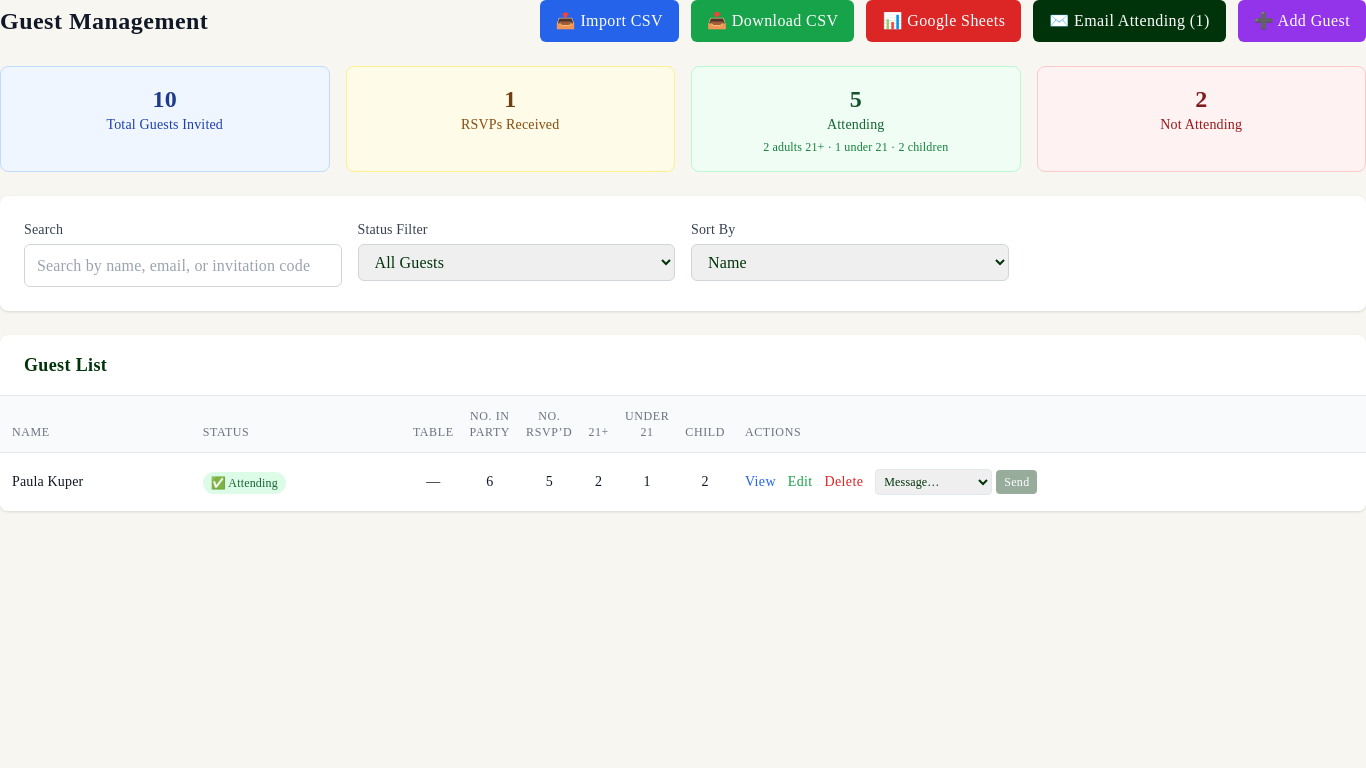
Test: the Edit Guest popup › keeps Number RSVP'd equal to the sum as she types
Expected: the text "Paula Kuper" is shown, [12,474,83,489]
Step 1. Click the button "Edit" → (800, 482), box [788,472,813,492]
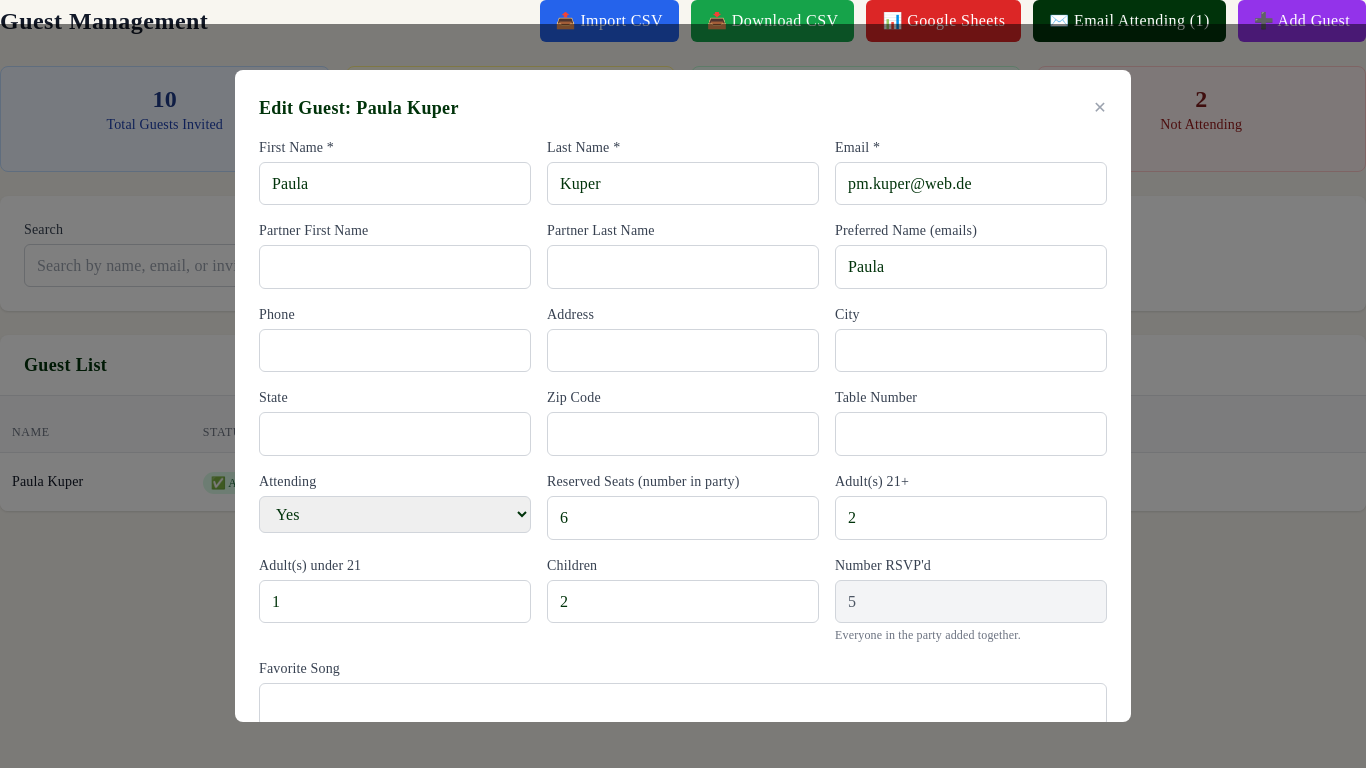
Expected: the heading "Edit Guest: Paula Kuper" is shown, [259,94,459,122]
Step 2. Replace the text in the number field labelled "Adult(s) 21+" with "3" → (971, 518), box [835,496,1107,540]
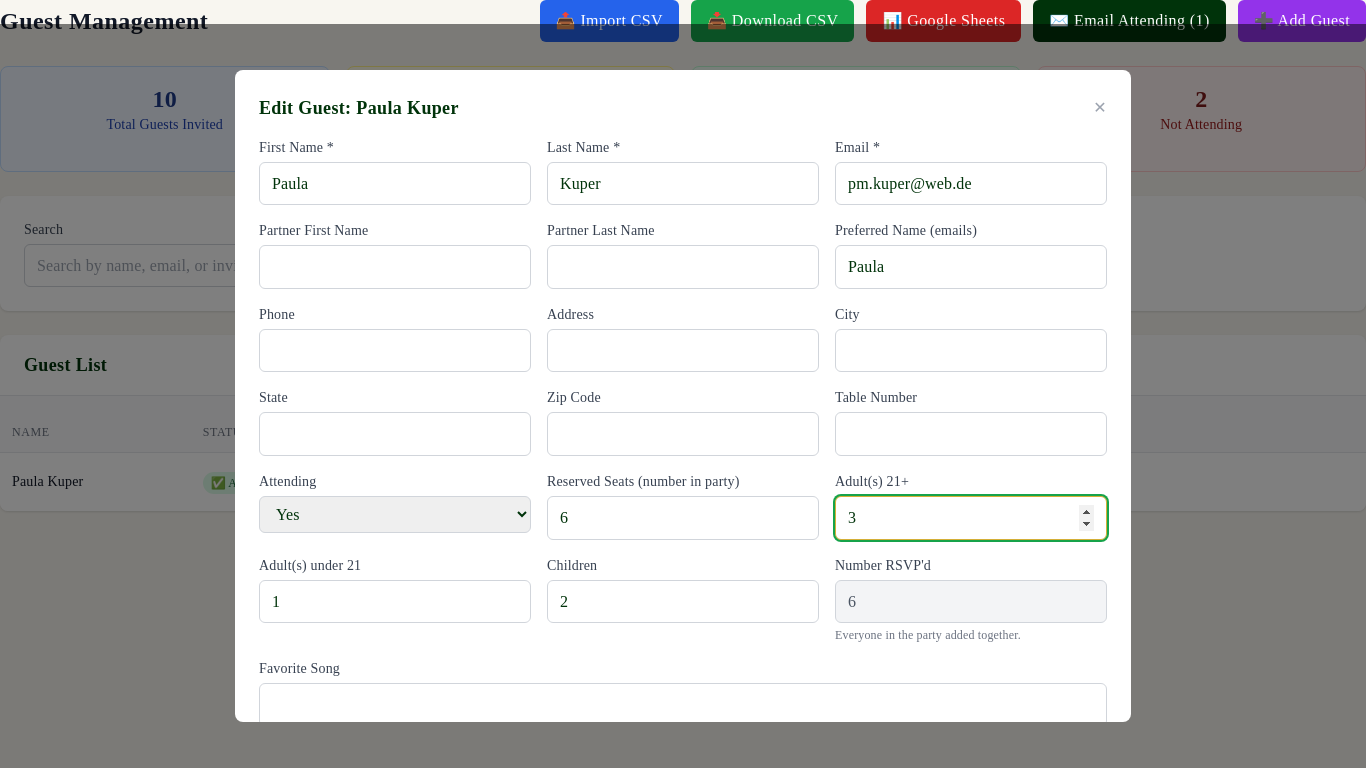
Expected: the number field labelled "Number RSVP'd" holds "6", [835,580,1107,623]
